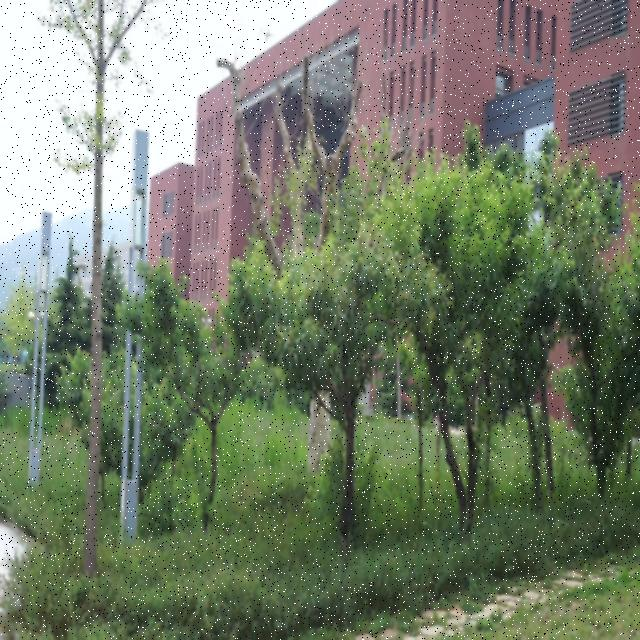UAV: (260, 25, 274, 41)
